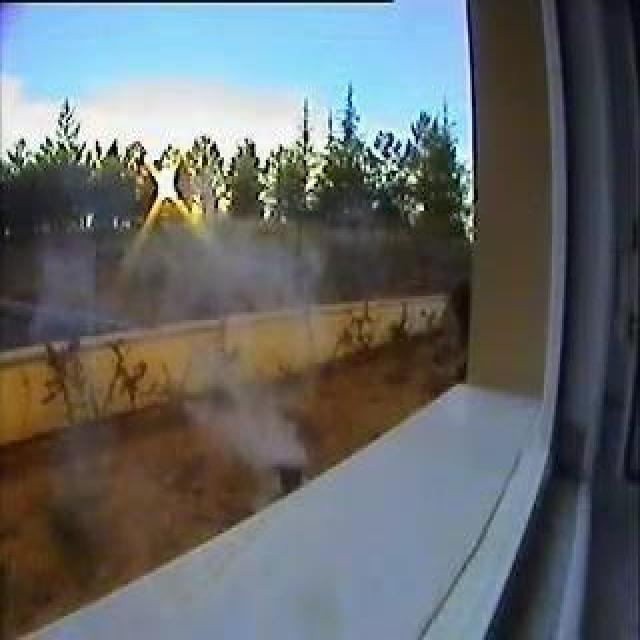Smoke: (188, 369, 300, 471)
